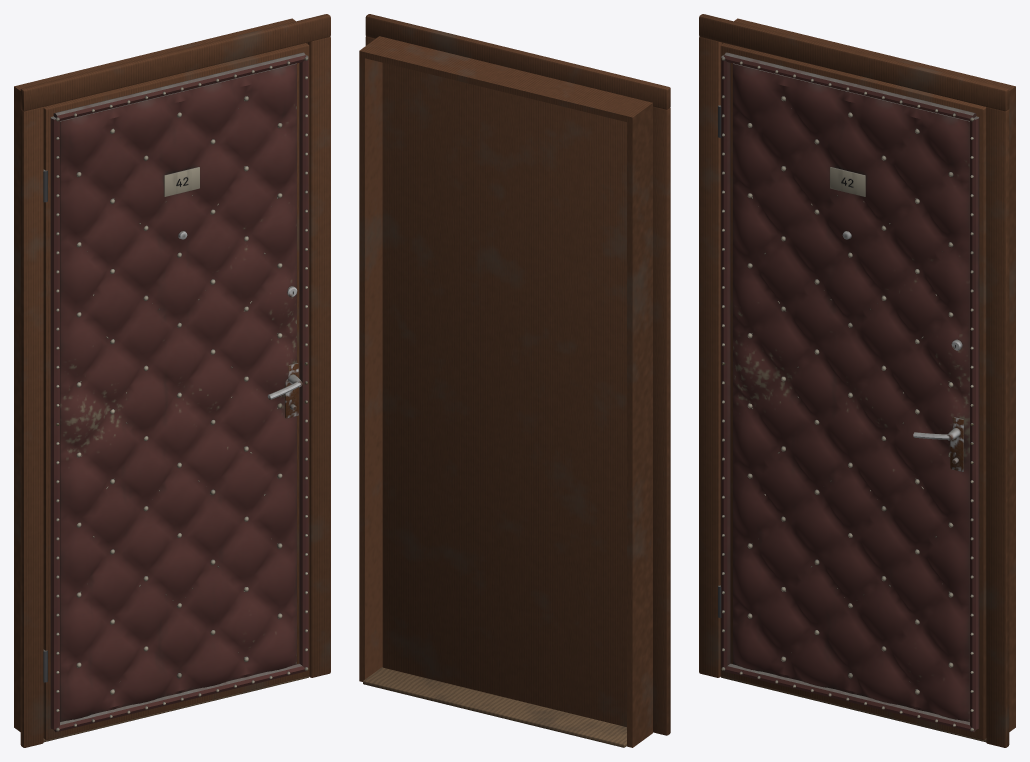
The model's file is SM_Door_Entrance_Padded.fbx.
3 views of the same model, side by side, from view 1: azimuth 30°, elevation 25°; view 2: azimuth 150°, elevation 25°; view 3: azimuth 330°, elevation 25° (orthographic).
Parts seen in each view (by area): view 1: SM_Door_Entrance_Padded; view 2: SM_Door_Entrance_Padded; view 3: SM_Door_Entrance_Padded.
Boxes of the visible parts, bbox=[...] form: SM_Door_Entrance_Padded: bbox=[14, 14, 330, 747]; SM_Door_Entrance_Padded: bbox=[359, 14, 670, 747]; SM_Door_Entrance_Padded: bbox=[699, 14, 1015, 747].
Size of the model in its own units: 1.04 by 2.12 by 0.2525.
Materials: 2 (1 with a texture image).
